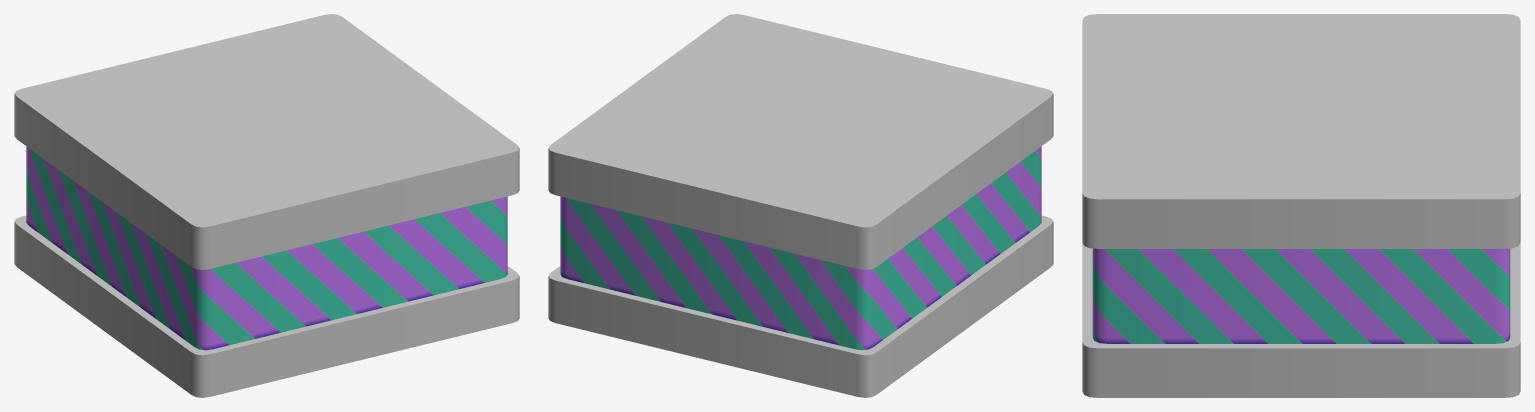
File: VIOLET_Cube_move.FBX
3 renders of one model, left to right at view 1: azimuth 30°, elevation 25°; view 2: azimuth 150°, elevation 25°; view 3: azimuth 270°, elevation 25°, orthographic. The views are drawn at different scales.
Parts seen in each view (by area): view 1: VIOLET_Cube_move, RotateMesh; view 2: VIOLET_Cube_move, RotateMesh; view 3: VIOLET_Cube_move, RotateMesh.
Part boxes in pixels (<box>): VIOLET_Cube_move: <box>14,14,519,397</box>; RotateMesh: <box>26,146,507,350</box>; VIOLET_Cube_move: <box>548,14,1053,397</box>; RotateMesh: <box>560,146,1041,350</box>; VIOLET_Cube_move: <box>1082,14,1520,397</box>; RotateMesh: <box>1092,248,1510,343</box>.
Size of the model in its own units: 53.76 by 26.88 by 53.76.
